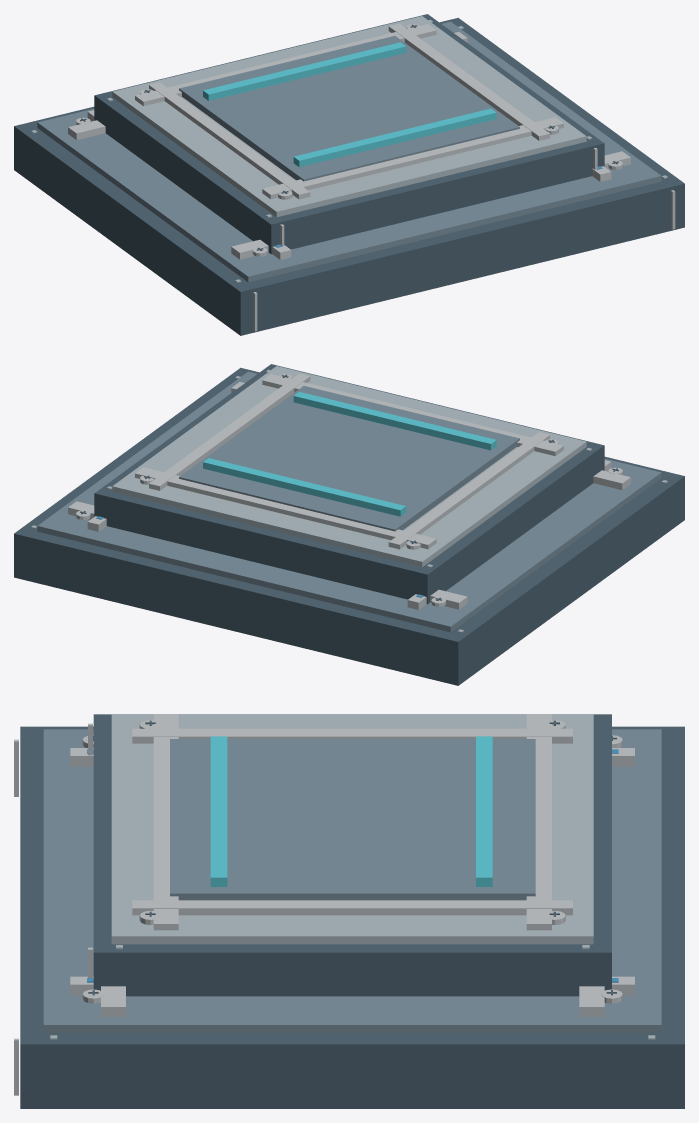
File: 25_L74_NanometreWaferXYStage.glb
3 views of the same model, one above another, from view 1: azimuth 30°, elevation 25°; view 2: azimuth 150°, elevation 25°; view 3: azimuth 270°, elevation 25° (orthographic). The views are drawn at different scales.
Parts seen in each view (by area): view 1: NanometreWaferXYStage_Node_0000, NanometreWaferXYStage_Node_0056, NanometreWaferXYStage_Node_0028, NanometreWaferXYStage_Node_0007, NanometreWaferXYStage_Node_0035, NanometreWaferXYStage_Node_0038, NanometreWaferXYStage_Node_0057, NanometreWaferXYStage_Node_0058, NanometreWaferXYStage_Node_0042, NanometreWaferXYStage_Node_0040, NanometreWaferXYStage_Node_0036, NanometreWaferXYStage_Node_0010 (+1 smaller); view 2: NanometreWaferXYStage_Node_0000, NanometreWaferXYStage_Node_0056, NanometreWaferXYStage_Node_0028, NanometreWaferXYStage_Node_0007, NanometreWaferXYStage_Node_0035, NanometreWaferXYStage_Node_0036, NanometreWaferXYStage_Node_0058, NanometreWaferXYStage_Node_0057, NanometreWaferXYStage_Node_0042, NanometreWaferXYStage_Node_0040, NanometreWaferXYStage_Node_0038, NanometreWaferXYStage_Node_0008 (+1 smaller); view 3: NanometreWaferXYStage_Node_0000, NanometreWaferXYStage_Node_0056, NanometreWaferXYStage_Node_0007, NanometreWaferXYStage_Node_0028, NanometreWaferXYStage_Node_0035, NanometreWaferXYStage_Node_0042, NanometreWaferXYStage_Node_0040, NanometreWaferXYStage_Node_0036, NanometreWaferXYStage_Node_0038, NanometreWaferXYStage_Node_0058, NanometreWaferXYStage_Node_0057, NanometreWaferXYStage_Node_0012 (+3 smaller).
Part boxes in pixels (bbox=[...]): NanometreWaferXYStage_Node_0000: bbox=[14, 17, 684, 335]; NanometreWaferXYStage_Node_0056: bbox=[179, 36, 519, 181]; NanometreWaferXYStage_Node_0028: bbox=[94, 14, 604, 254]; NanometreWaferXYStage_Node_0007: bbox=[37, 21, 661, 282]; NanometreWaferXYStage_Node_0035: bbox=[112, 16, 586, 217]; NanometreWaferXYStage_Node_0038: bbox=[262, 117, 563, 199]; NanometreWaferXYStage_Node_0057: bbox=[203, 42, 406, 100]; NanometreWaferXYStage_Node_0058: bbox=[293, 108, 496, 167]; NanometreWaferXYStage_Node_0042: bbox=[388, 23, 549, 140]; NanometreWaferXYStage_Node_0040: bbox=[149, 82, 310, 199]; NanometreWaferXYStage_Node_0036: bbox=[135, 24, 436, 106]; NanometreWaferXYStage_Node_0010: bbox=[231, 151, 630, 259]; NanometreWaferXYStage_Node_0000: bbox=[14, 367, 684, 685]; NanometreWaferXYStage_Node_0056: bbox=[179, 386, 519, 531]; NanometreWaferXYStage_Node_0028: bbox=[94, 364, 604, 604]; NanometreWaferXYStage_Node_0007: bbox=[37, 371, 661, 632]; NanometreWaferXYStage_Node_0035: bbox=[112, 366, 586, 567]; NanometreWaferXYStage_Node_0036: bbox=[135, 467, 436, 549]; NanometreWaferXYStage_Node_0058: bbox=[293, 391, 496, 450]; NanometreWaferXYStage_Node_0057: bbox=[203, 458, 406, 516]; NanometreWaferXYStage_Node_0042: bbox=[149, 373, 310, 490]; NanometreWaferXYStage_Node_0040: bbox=[388, 432, 549, 549]; NanometreWaferXYStage_Node_0038: bbox=[262, 374, 563, 456]; NanometreWaferXYStage_Node_0008: bbox=[68, 501, 467, 609]; NanometreWaferXYStage_Node_0000: bbox=[20, 726, 684, 1108]; NanometreWaferXYStage_Node_0056: bbox=[170, 739, 535, 900]; NanometreWaferXYStage_Node_0007: bbox=[43, 729, 661, 1033]; NanometreWaferXYStage_Node_0028: bbox=[93, 714, 611, 996]; NanometreWaferXYStage_Node_0035: bbox=[111, 714, 593, 944]; NanometreWaferXYStage_Node_0042: bbox=[132, 900, 572, 915]; NanometreWaferXYStage_Node_0040: bbox=[132, 728, 572, 743]; NanometreWaferXYStage_Node_0036: bbox=[526, 714, 551, 930]; NanometreWaferXYStage_Node_0038: bbox=[153, 714, 178, 930]; NanometreWaferXYStage_Node_0058: bbox=[210, 736, 227, 886]; NanometreWaferXYStage_Node_0057: bbox=[476, 736, 492, 886]; NanometreWaferXYStage_Node_0012: bbox=[70, 748, 634, 766].
Size of the model in its own units: 3.6 by 0.755 by 3.21.
